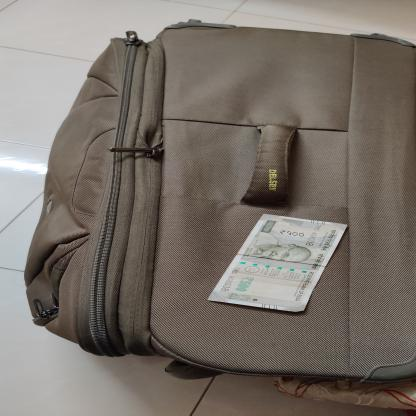New500Front: (206, 211, 352, 315)
